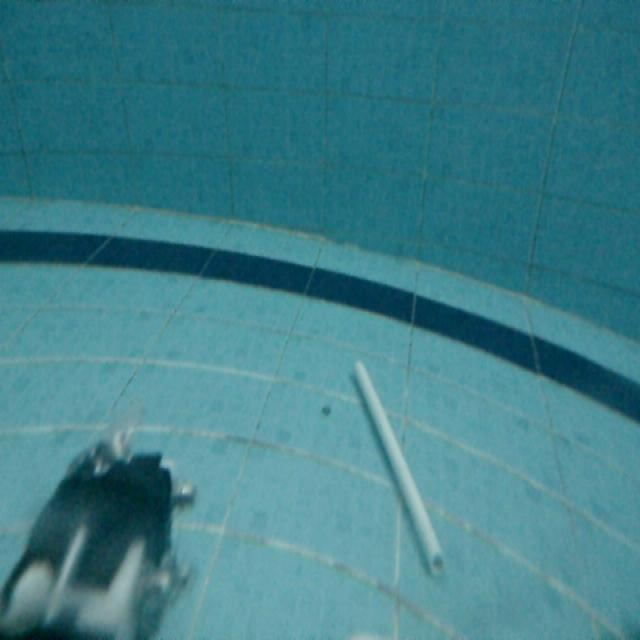Cube: (348, 357, 457, 579)
